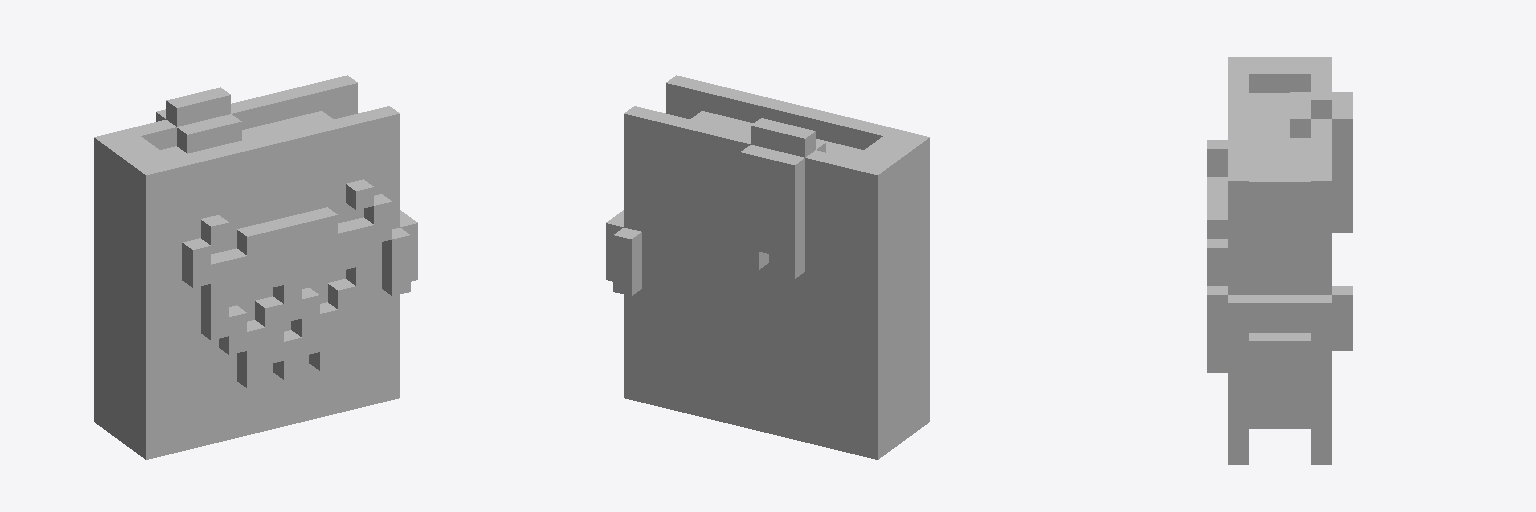
File: Grimoire.obj
The picture shows the model from 3 angles: view 1: azimuth 30°, elevation 25°; view 2: azimuth 150°, elevation 25°; view 3: azimuth 270°, elevation 25°; orthographic projection.
Parts seen in each view (by area): view 1: SpellBook; view 2: SpellBook; view 3: SpellBook.
Boxes of the visible parts, box(x1,y1,x2,y2) form: SpellBook: box(94, 75, 417, 459); SpellBook: box(606, 75, 929, 459); SpellBook: box(1207, 57, 1352, 464).
Size of the model in its own units: 1.5 by 1.6 by 0.7.